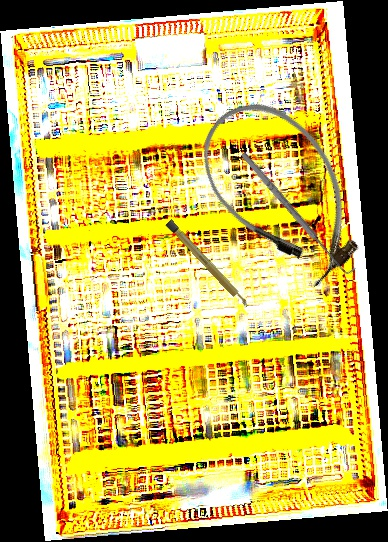Cannula: (179, 79, 386, 303)
Hook Surgical: (238, 146, 357, 280)
Scalpel Handle: (164, 219, 251, 310)
